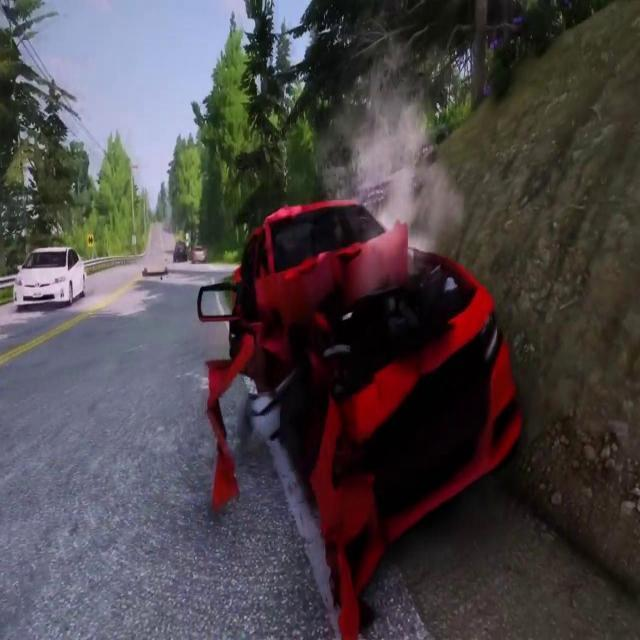single accident: (187, 147, 509, 517)
